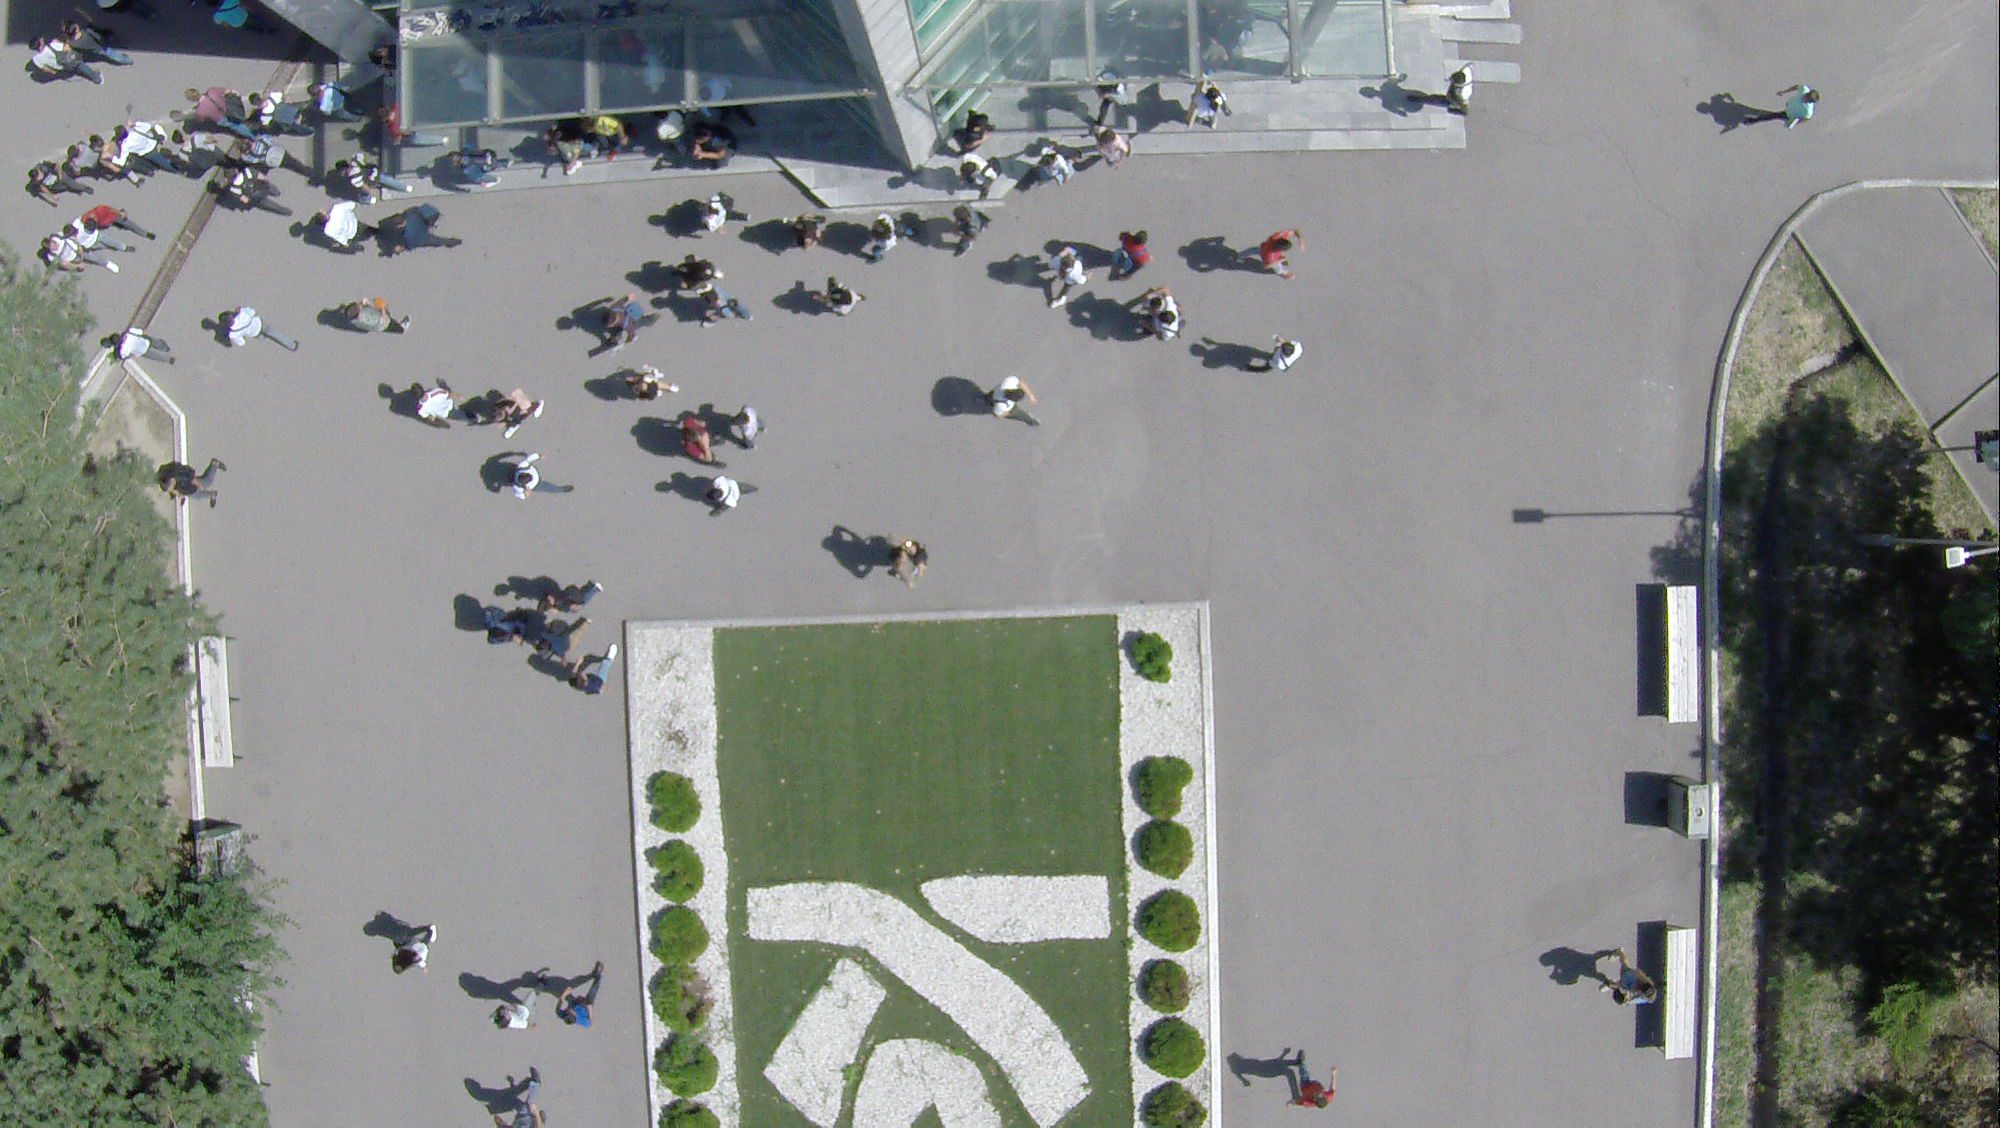person: (158, 453, 229, 514), (24, 38, 103, 92), (1408, 58, 1476, 119), (335, 152, 414, 206), (35, 231, 119, 277), (1745, 78, 1817, 132), (481, 386, 549, 443), (184, 81, 253, 138), (309, 199, 380, 253), (217, 304, 297, 351), (64, 14, 133, 68), (506, 452, 575, 504), (1598, 946, 1656, 1008), (392, 204, 462, 253), (551, 966, 605, 1031), (563, 641, 620, 702), (338, 296, 411, 342), (220, 168, 292, 214), (1286, 1051, 1340, 1113), (381, 921, 439, 975), (114, 121, 179, 169), (592, 292, 642, 354), (64, 219, 132, 264), (993, 372, 1044, 431), (253, 90, 314, 139), (81, 203, 158, 242), (550, 119, 596, 181), (577, 110, 635, 160), (405, 381, 464, 429), (1050, 246, 1092, 312), (699, 72, 752, 125), (860, 215, 914, 265), (492, 984, 547, 1033), (1137, 288, 1187, 344), (202, 1, 277, 37), (173, 131, 236, 173), (112, 326, 175, 368), (1260, 225, 1307, 282), (452, 147, 511, 191), (539, 611, 588, 663), (948, 204, 991, 264), (29, 165, 95, 204), (1181, 78, 1229, 130), (886, 532, 929, 590), (308, 81, 366, 124), (708, 472, 759, 519), (813, 275, 864, 320), (701, 190, 746, 240), (238, 135, 296, 175), (538, 582, 603, 617), (624, 365, 679, 405), (1084, 127, 1133, 171), (958, 153, 999, 203), (700, 287, 751, 328), (1115, 226, 1151, 283), (691, 126, 737, 170), (685, 417, 726, 467), (1255, 334, 1305, 375), (1030, 147, 1075, 191), (92, 135, 138, 178), (781, 211, 827, 253), (952, 108, 995, 151), (483, 608, 526, 647), (676, 256, 722, 290), (733, 405, 766, 452), (376, 102, 407, 145), (658, 114, 687, 158), (1092, 84, 1123, 123), (67, 143, 101, 176)
